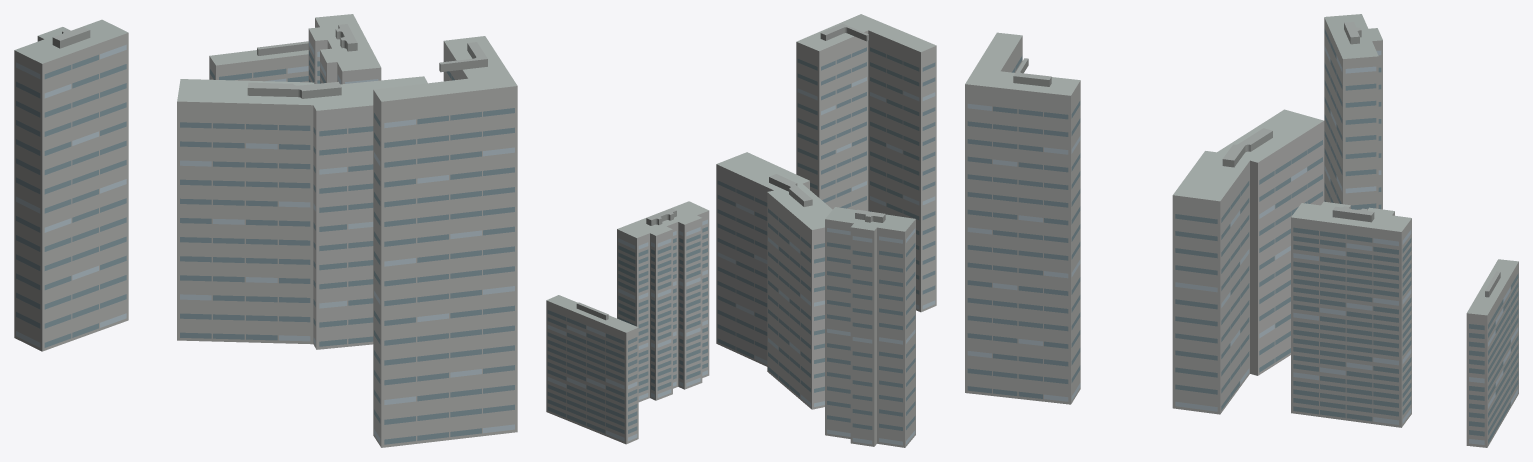
The model's file is apt-a13790726.glb.
3 renders of one model, left to right at view 1: azimuth 30°, elevation 25°; view 2: azimuth 150°, elevation 25°; view 3: azimuth 270°, elevation 25°, orthographic. The views are drawn at different scales.
Visible parts, largest first — view 1: apt-a13790726; view 2: apt-a13790726; view 3: apt-a13790726.
Boxes of the visible parts, box(x1,y1,x2,y2) form: apt-a13790726: box(14, 14, 517, 447); apt-a13790726: box(546, 14, 936, 447); apt-a13790726: box(965, 14, 1518, 447).
Size of the model in its own units: 131 by 109 by 173.
